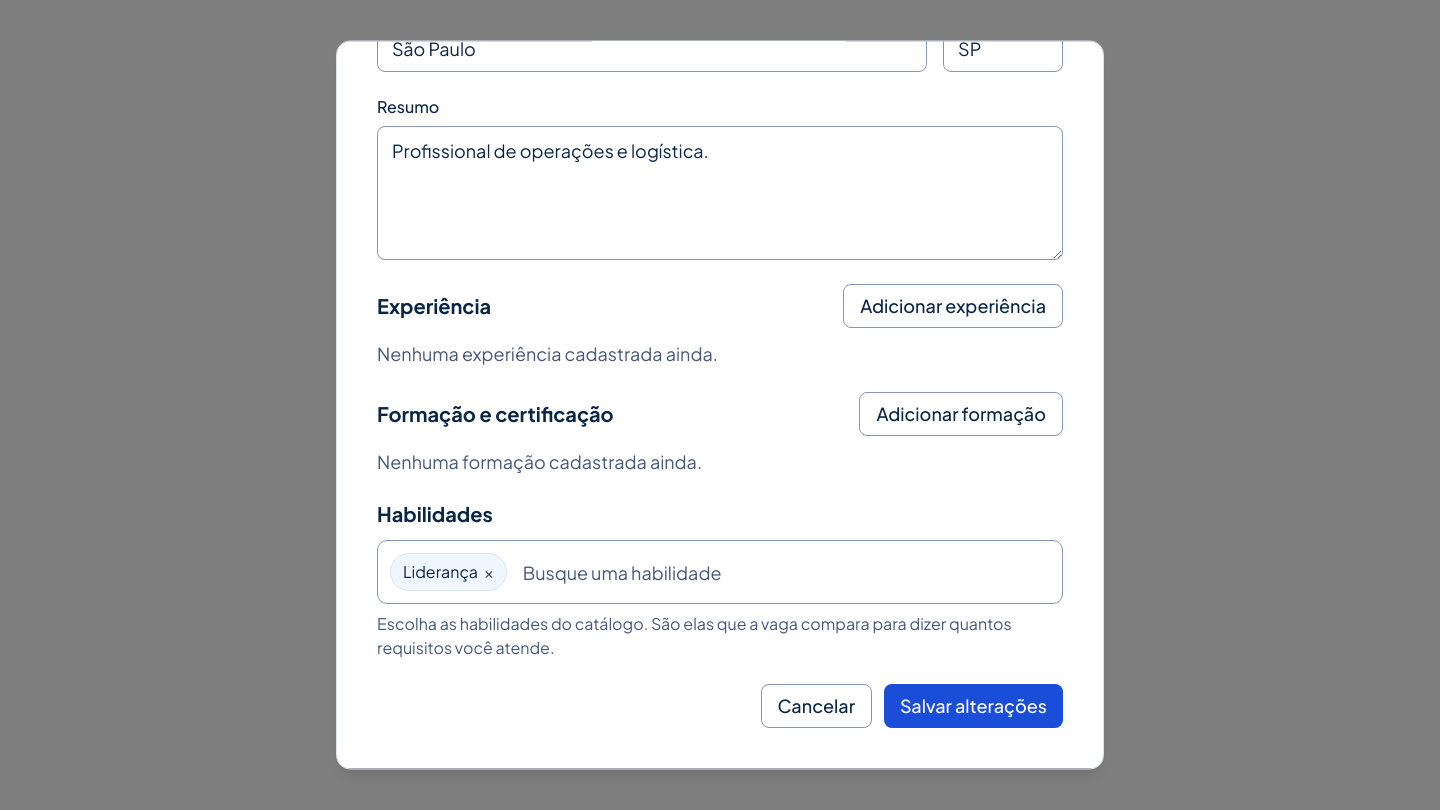
Scenario: EditProfileModal › skills › removes a skill through the skills endpoint
(page scrolled)
Click the button named "remover habilidade liderança" at x=489, y=572, box [484,560,494,584]
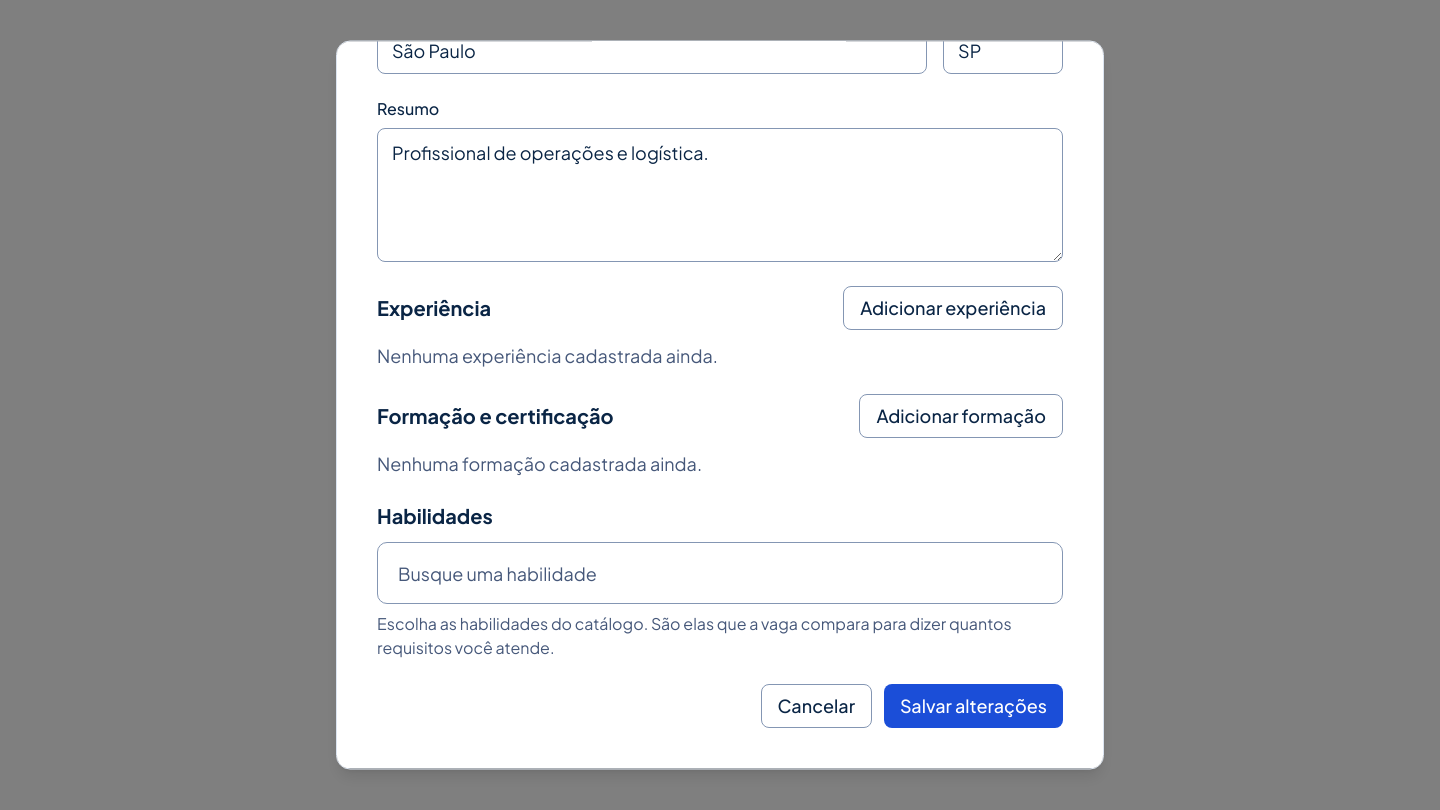
Expected: the text "Liderança" is gone
